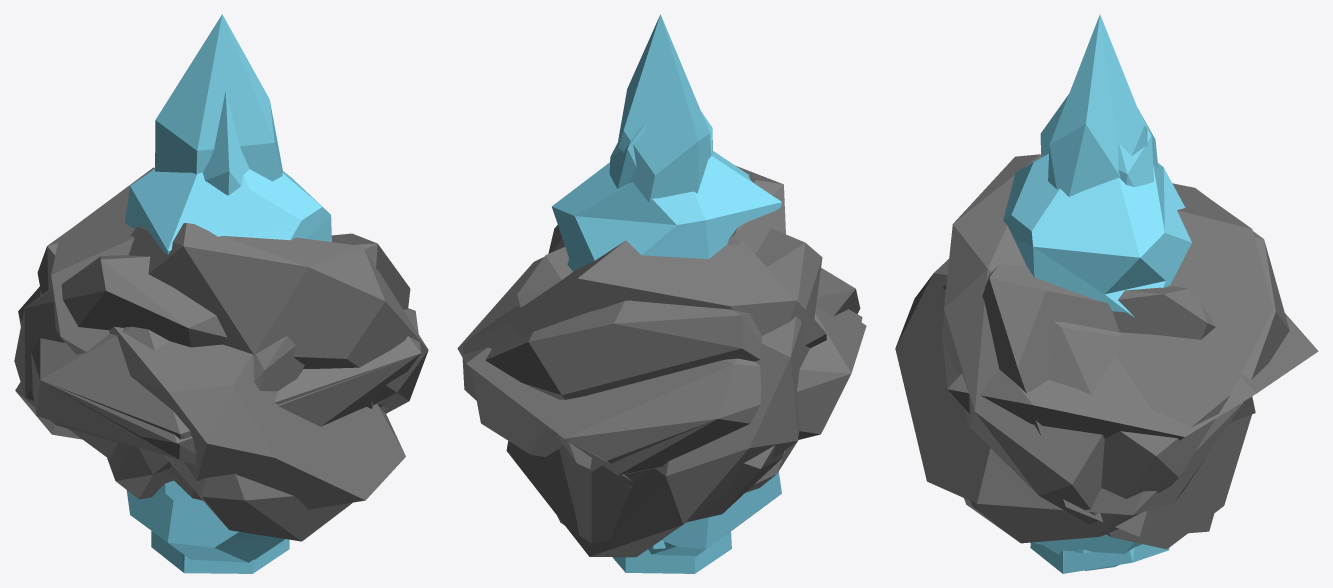
Rendered from tas_krstal.fbx.
3 views of the same model, side by side, from view 1: azimuth 30°, elevation 25°; view 2: azimuth 150°, elevation 25°; view 3: azimuth 270°, elevation 25° (orthographic).
Visible parts, largest first — view 1: Roundcube.001, Roundcube.003, Cylinder.016, Roundcube, Cylinder.002, Roundcube.017, Roundcube.002, Roundcube.004, Roundcube.006, Cylinder.003; view 2: Roundcube.003, Roundcube, Roundcube.017, Cylinder.016, Roundcube.002, Cylinder.002, Roundcube.001, Roundcube.006, Roundcube.004, Cylinder.003; view 3: Roundcube.002, Roundcube.001, Cylinder.016, Roundcube.003, Cylinder.002, Roundcube.017, Roundcube, Roundcube.004, Cylinder.003.
Part boxes in pixels (x1,y1,x2,y2): Roundcube.001: [15, 223, 428, 444]; Roundcube.003: [37, 232, 405, 509]; Cylinder.016: [125, 169, 331, 562]; Roundcube: [18, 286, 421, 465]; Cylinder.002: [151, 14, 289, 573]; Roundcube.017: [14, 233, 410, 458]; Roundcube.002: [50, 167, 352, 541]; Roundcube.004: [107, 336, 304, 499]; Roundcube.006: [41, 353, 420, 453]; Cylinder.003: [202, 91, 286, 547]; Roundcube.003: [470, 268, 860, 456]; Roundcube: [457, 257, 862, 481]; Roundcube.017: [506, 225, 822, 557]; Cylinder.016: [551, 151, 781, 556]; Roundcube.002: [462, 240, 826, 400]; Cylinder.002: [612, 14, 731, 573]; Roundcube.001: [553, 165, 785, 543]; Roundcube.006: [566, 322, 866, 475]; Roundcube.004: [517, 247, 798, 492]; Cylinder.003: [609, 111, 712, 549]; Roundcube.002: [964, 183, 1273, 543]; Roundcube.001: [943, 154, 1251, 549]; Cylinder.016: [1003, 154, 1191, 570]; Roundcube.003: [895, 188, 1289, 515]; Cylinder.002: [1030, 14, 1169, 573]; Roundcube.017: [982, 264, 1213, 536]; Roundcube: [942, 313, 1318, 440]; Roundcube.004: [942, 285, 1255, 423]; Cylinder.003: [1032, 94, 1153, 553].
Size of the model in its own units: 1.94 by 2.85 by 1.99.
